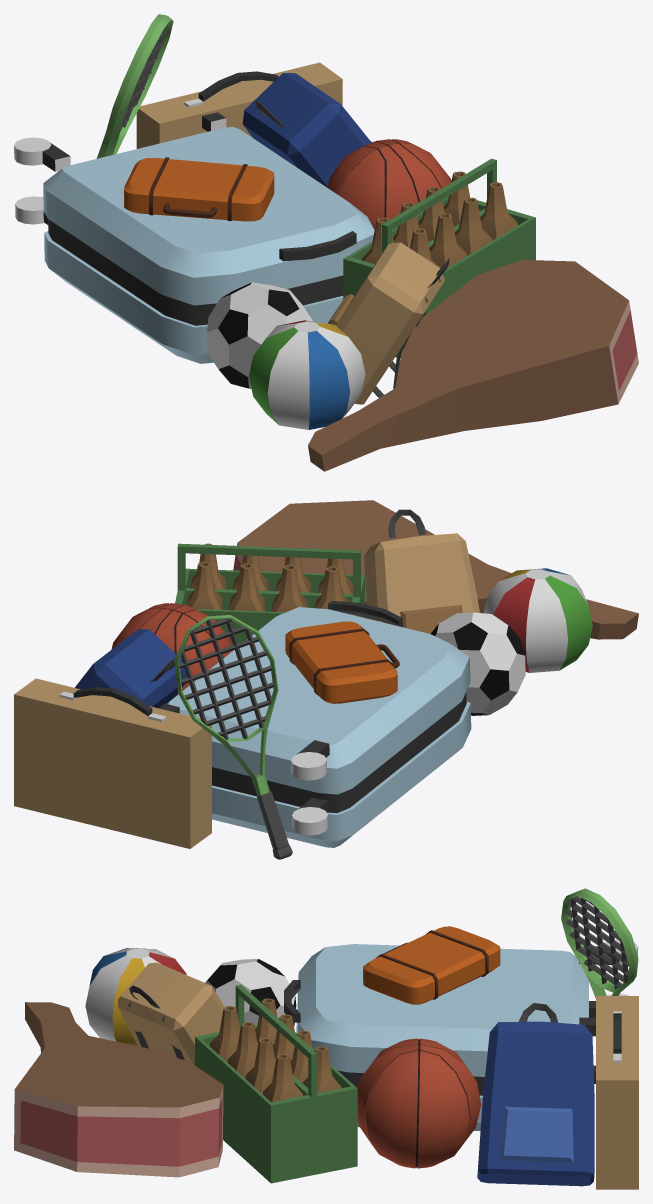
Rendered from Groupe_Bagage_10.fbx.
The picture shows the model from 3 angles, top to bottom: view 1: azimuth 30°, elevation 25°; view 2: azimuth 150°, elevation 25°; view 3: azimuth 270°, elevation 25°; orthographic projection. The views are drawn at different scales.
Visible parts, largest first — view 1: Groupe_Bagage_10; view 2: Groupe_Bagage_10; view 3: Groupe_Bagage_10.
Part boxes in pixels (x1,y1,x2,y2): Groupe_Bagage_10: (14,14,638,471); Groupe_Bagage_10: (14,500,638,859); Groupe_Bagage_10: (14,888,638,1189).
Size of the model in its own units: 148 by 95 by 243.
Materials: 1 (1 with a texture image).
